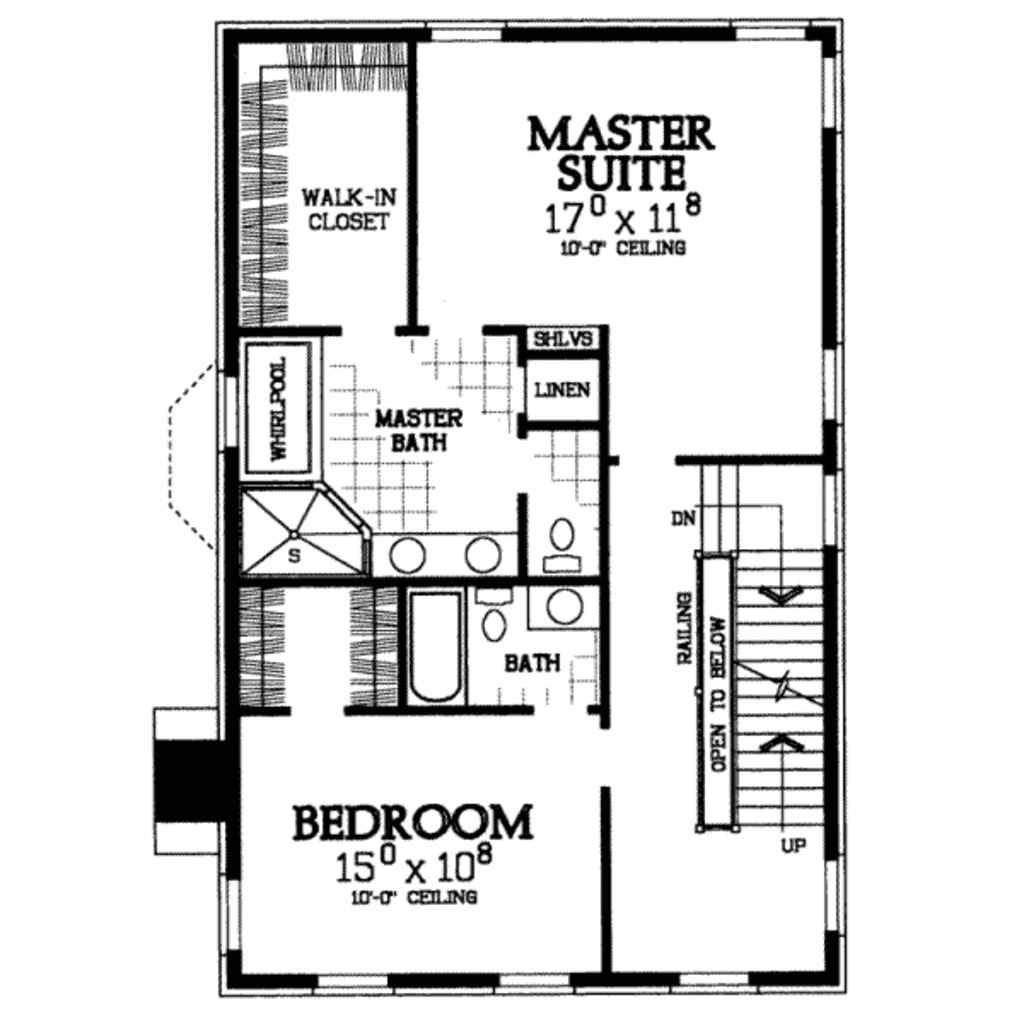large_sink: (532, 507, 591, 585), (467, 579, 524, 643)
small_sink: (365, 530, 525, 577), (526, 585, 601, 634)
stairs: (689, 459, 827, 853)
tub: (235, 334, 327, 486), (405, 589, 468, 711)
window: (209, 871, 247, 952), (422, 13, 513, 45), (726, 18, 820, 45), (488, 972, 579, 999), (820, 464, 851, 543), (824, 341, 850, 421), (667, 972, 757, 994), (311, 971, 397, 994), (822, 51, 843, 138)
